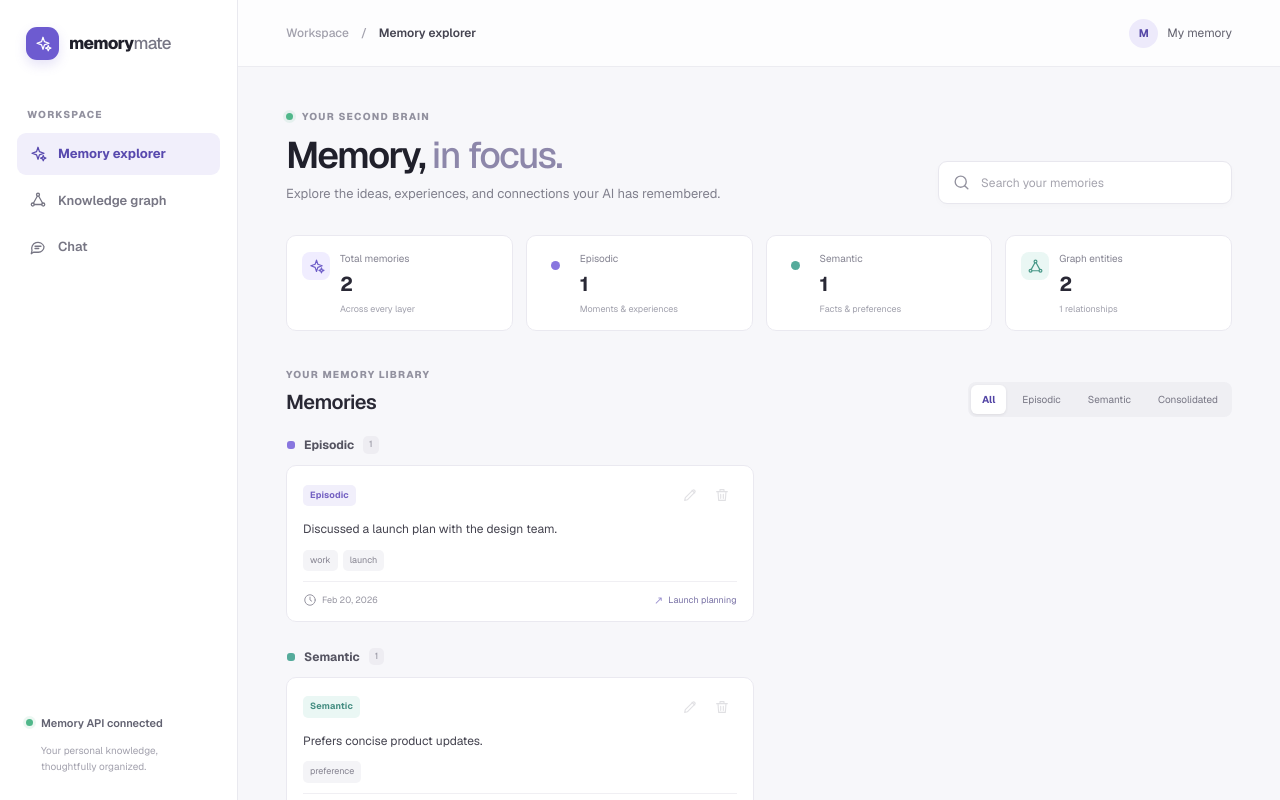
Test: MemoryExplorer › persists an edited memory through the API
The image size is (1280, 800).
Check: the text "Discussed a launch plan with the design team." is shown, box 303,521 -> 557,537
Step 1. Click the button named "Edit memory: Discussed a launch plan with the design team." → [690, 495], box 676,481 -> 704,510
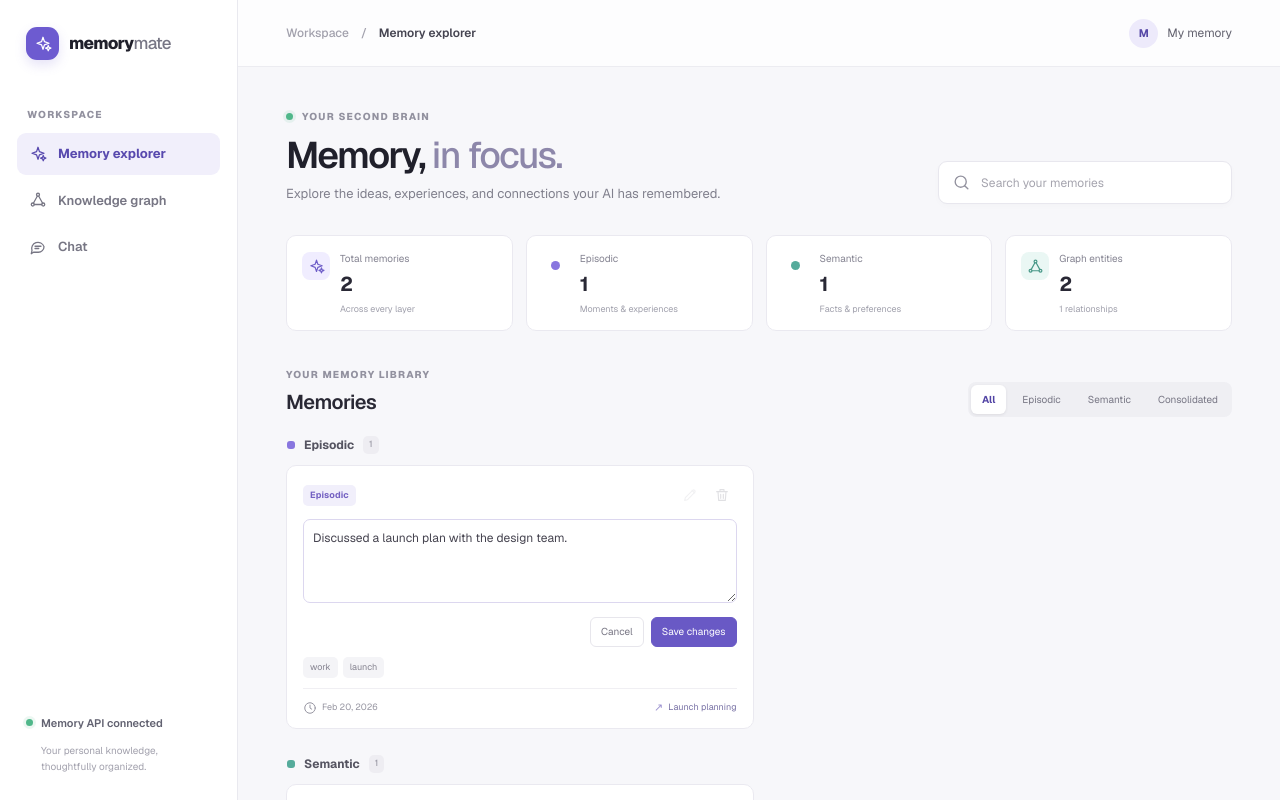
Step 2. Replace the text in the text box named "Edit memory content" with "Updated launch plan." → [520, 561], box 303,519 -> 736,603
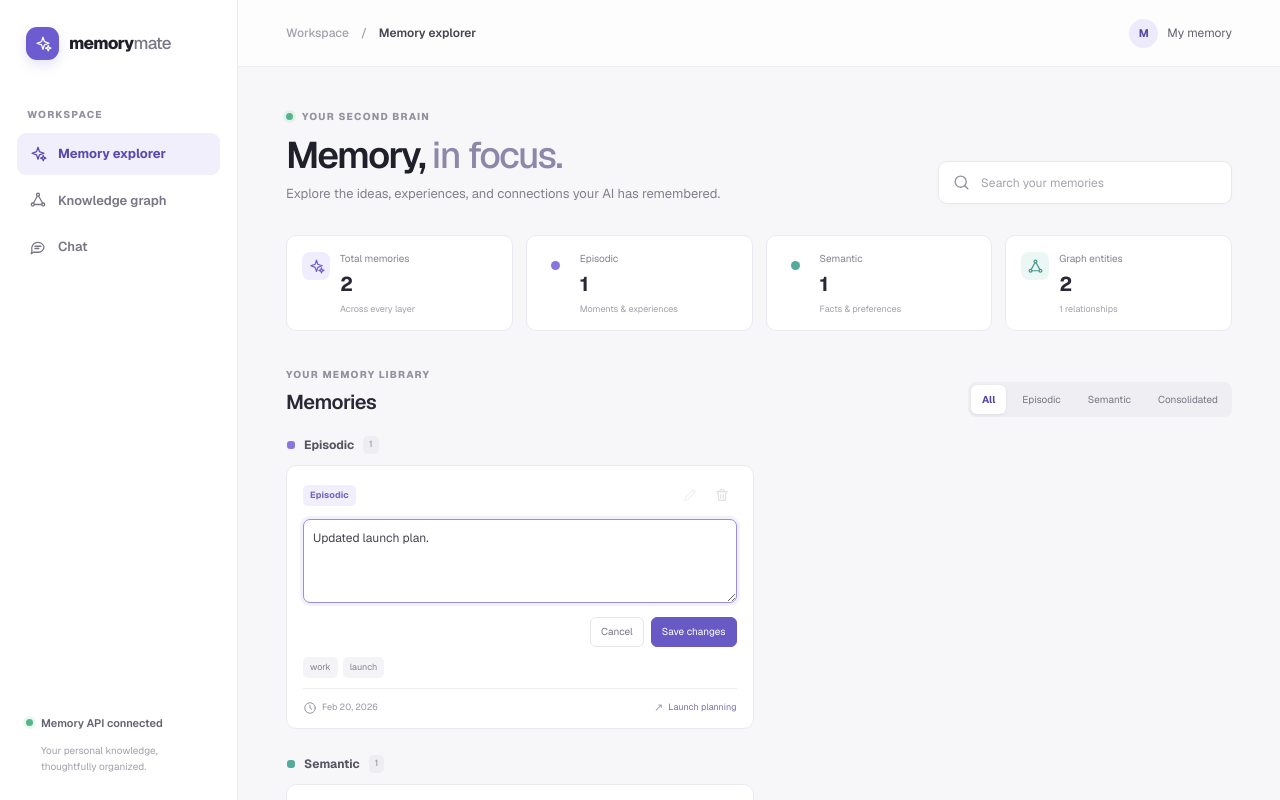
Step 3. Click the button "Save changes" → [694, 632], box 651,617 -> 736,647
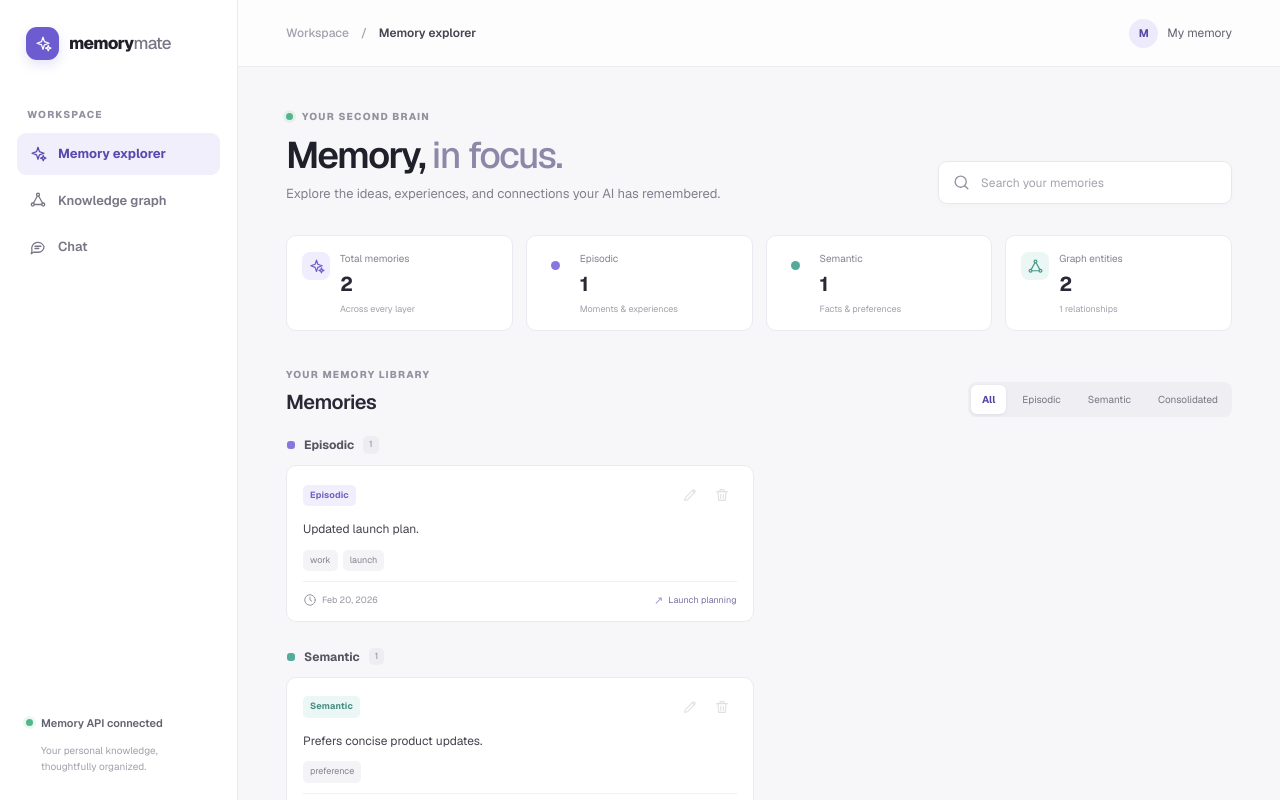
Check: the text "Updated launch plan." is shown, box 303,521 -> 419,537
